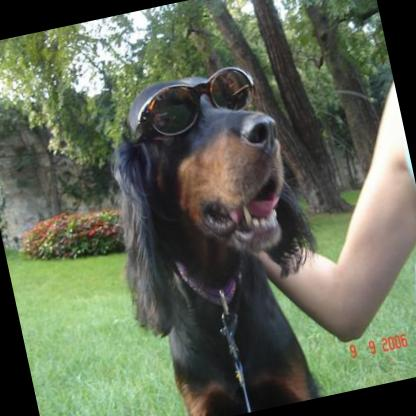Gordon_setter: (80, 47, 350, 416)
